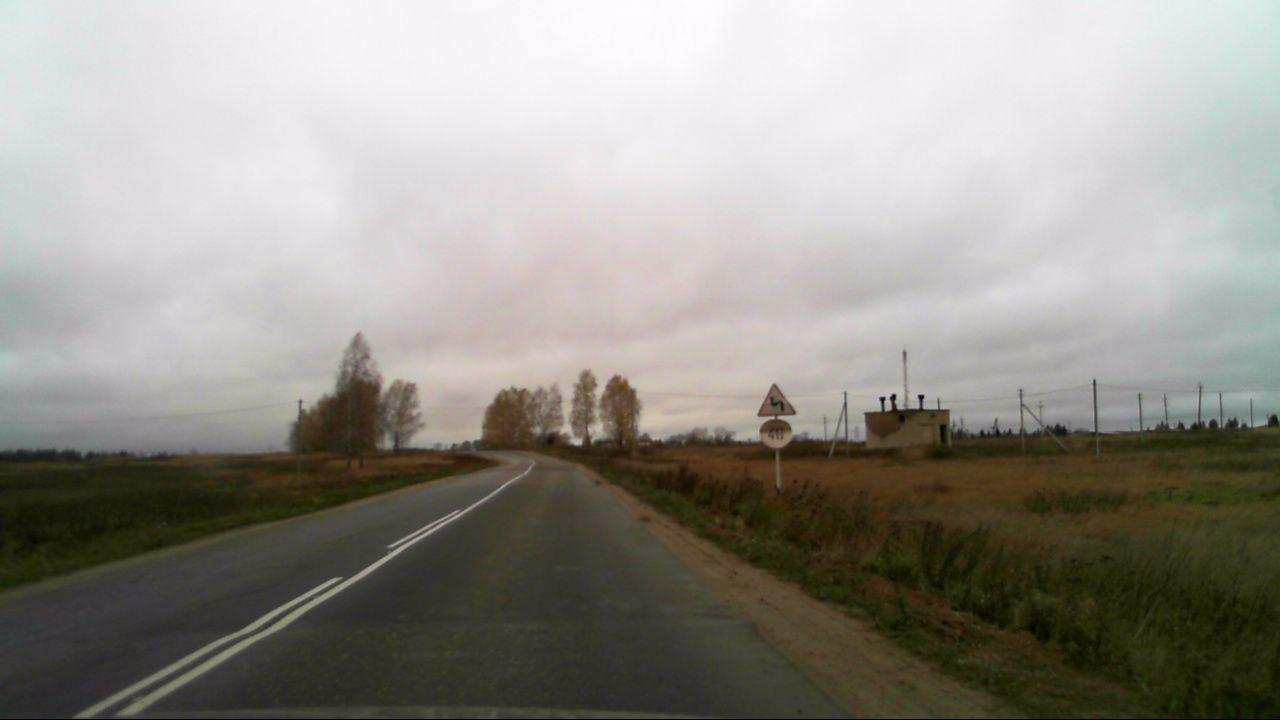obstructed_road_sign: (758, 416, 794, 447)
road_sign: (753, 380, 803, 419)
